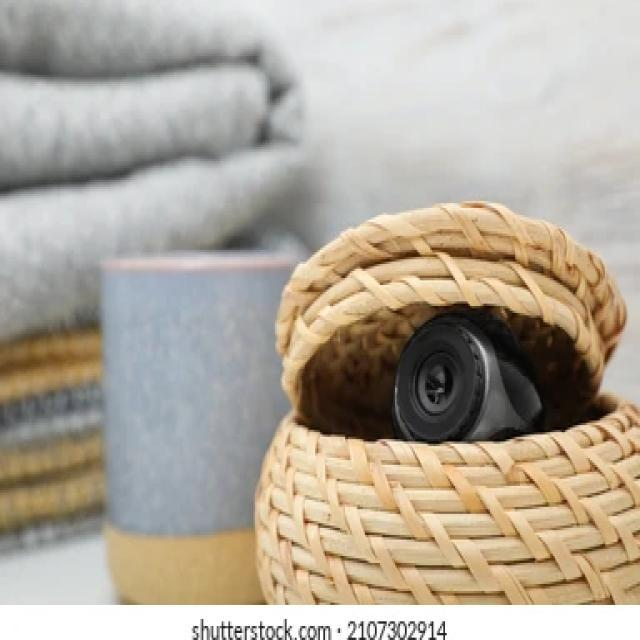hidden camera: (423, 363, 456, 406)
